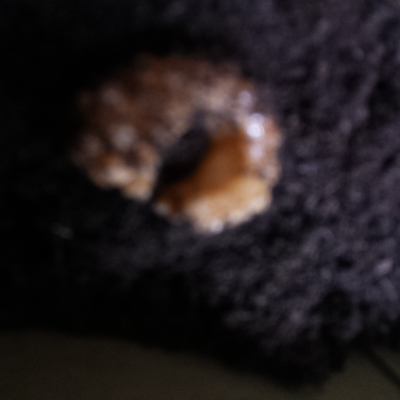eggs: (66, 46, 287, 242)
